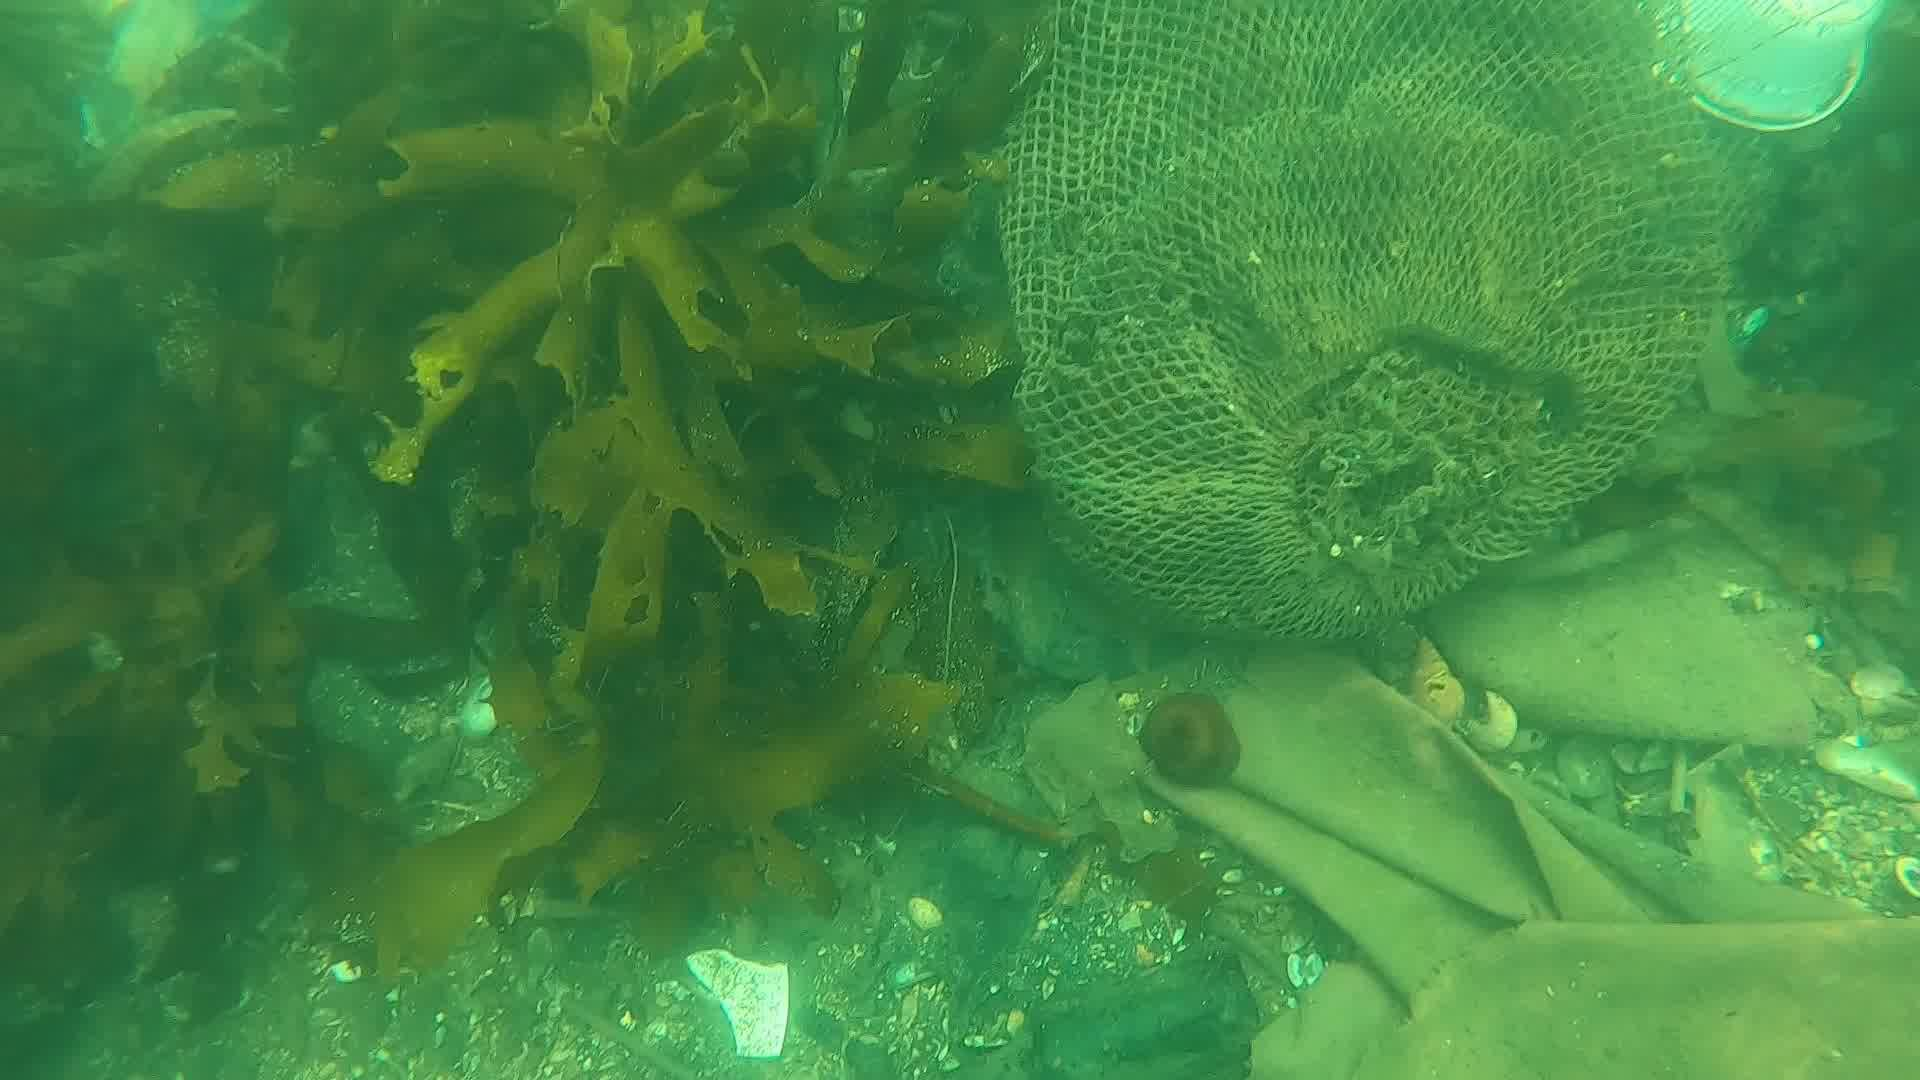fish net: (992, 0, 1774, 646)
